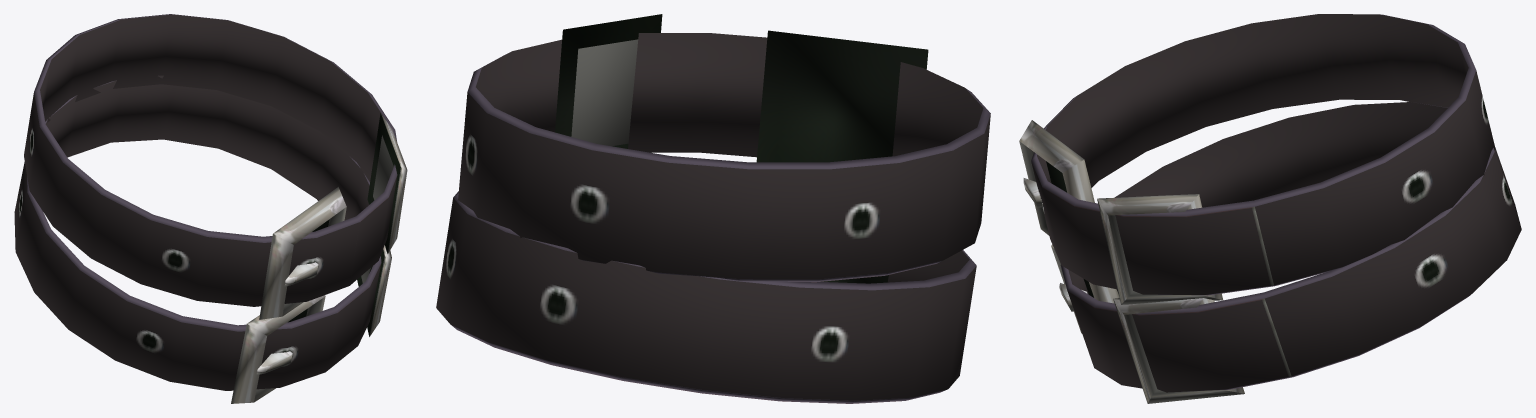
The model's file is doubleC.fbx.
The picture shows the model from 3 angles, left to right: view 1: azimuth 30°, elevation 25°; view 2: azimuth 150°, elevation 25°; view 3: azimuth 270°, elevation 25°; orthographic projection. The views are drawn at different scales.
Parts seen in each view (by area): view 1: doubleC_mesh; view 2: doubleC_mesh; view 3: doubleC_mesh.
Boxes of the visible parts, box(x1,y1,x2,y2) form: doubleC_mesh: box(14, 14, 407, 403); doubleC_mesh: box(436, 14, 990, 403); doubleC_mesh: box(1019, 14, 1521, 403).
Bounding box in the file's own units: 9.87 × 7.68 × 12.05.
Materials: 2 (2 with a texture image).
